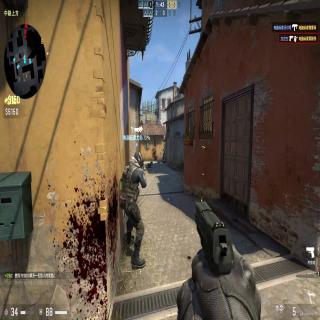CT-Body: (118, 150, 146, 270)
CT-Head: (133, 151, 144, 170)
